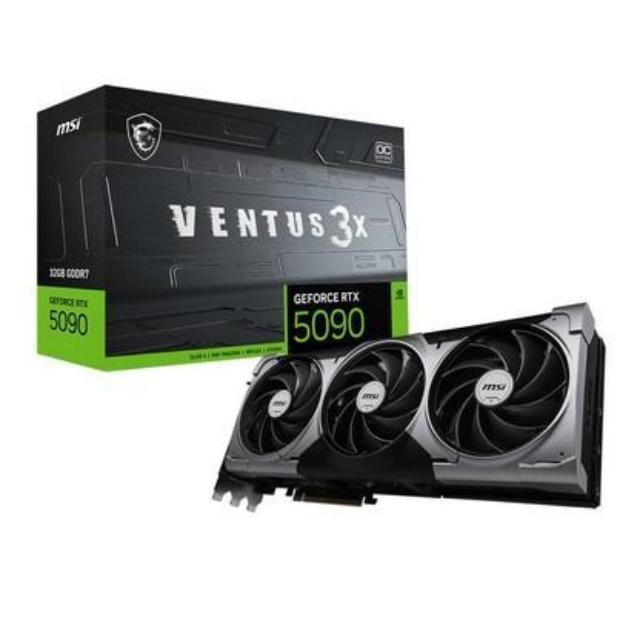GPU: (212, 302, 608, 518)
